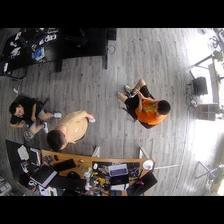normal: (116, 77, 174, 133), (46, 107, 97, 150), (5, 91, 53, 133)
